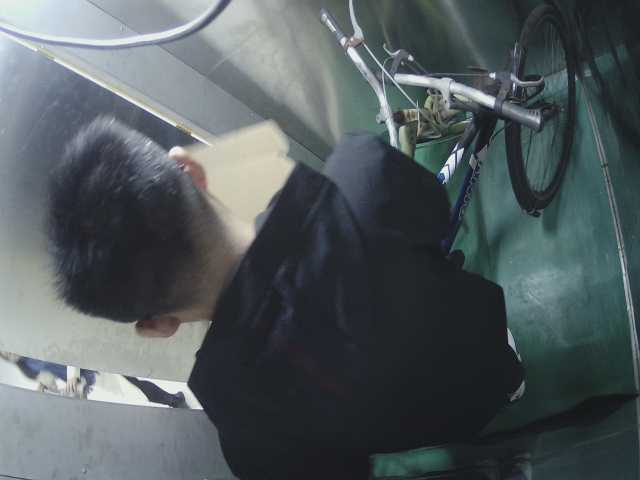bicycle: (312, 4, 600, 258)
person: (57, 121, 533, 455)
